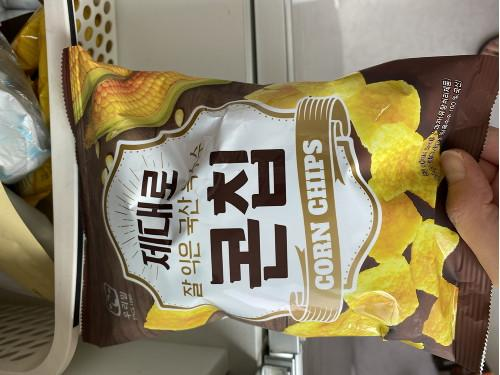snack: (61, 44, 500, 375)
